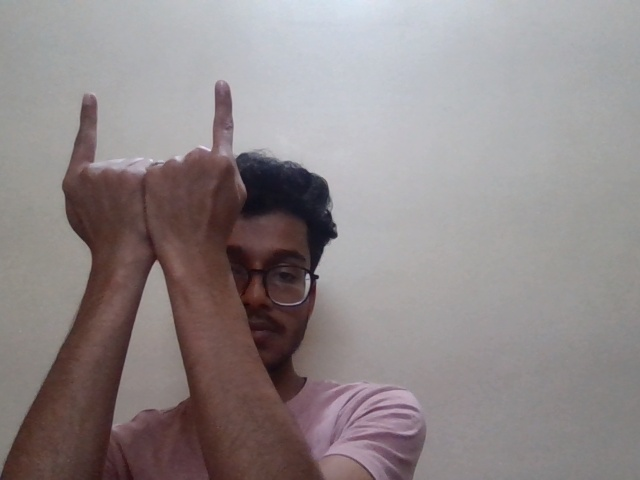when: (60, 69, 273, 280)
